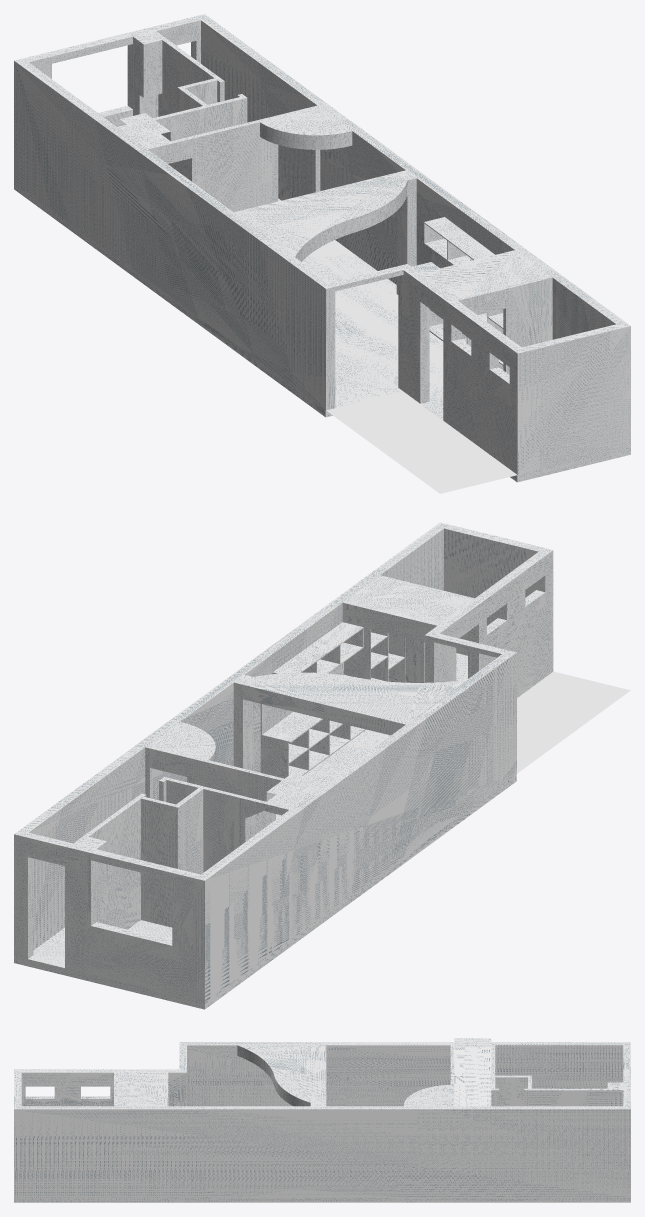
The model's file is Maison_Roubaix_RDC_v04.dae.
3 renders of one model, top to bottom at view 1: azimuth 30°, elevation 25°; view 2: azimuth 150°, elevation 25°; view 3: azimuth 270°, elevation 25°, orthographic. The views are drawn at different scales.
Visible parts, largest first — view 1: RDC_-_Exterior_Walls, RDC_-_Internal_Walls (×3), image_0, RDC_-_Ceiling (×3), RDC_-_Floor, RDC_-_Kitchenn, RDC_-_Stairs; view 2: RDC_-_Exterior_Walls, RDC_-_Internal_Walls (×3), RDC_-_Ceiling (×3), RDC_-_Floor, RDC_-_Kitchenn, image_0, RDC_-_Stairs; view 3: RDC_-_Exterior_Walls, RDC_-_Ceiling (×3), RDC_-_Floor, RDC_-_Internal_Walls, RDC_-_Stairs.
Part boxes in pixels (x1,y1,x2,y2): RDC_-_Exterior_Walls: (14,14,630,474); RDC_-_Internal_Walls (×3): (117,31,552,374); image_0: (278,199,516,493); RDC_-_Ceiling (×3): (234,107,549,298); RDC_-_Floor: (14,182,630,482); RDC_-_Kitchenn: (412,217,503,369); RDC_-_Stairs: (120,113,170,137); RDC_-_Exterior_Walls: (14,522,553,1002); RDC_-_Internal_Walls (×3): (73,575,474,929); RDC_-_Ceiling (×3): (148,577,471,761); RDC_-_Floor: (14,653,553,1009); RDC_-_Kitchenn: (260,622,405,778); image_0: (153,653,630,939); RDC_-_Stairs: (267,773,316,797); RDC_-_Exterior_Walls: (14,1042,630,1197); RDC_-_Ceiling (×3): (118,1045,450,1106); RDC_-_Floor: (14,1197,630,1202); RDC_-_Internal_Walls: (450,1045,623,1106); RDC_-_Stairs: (454,1038,491,1106).
Size of the model in its own units: 162 by 626 by 112.
